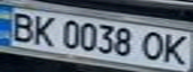0: (57, 17, 81, 51), (78, 20, 100, 53)
3: (97, 22, 118, 56)
8: (115, 25, 139, 58)
B: (3, 10, 39, 43)
K: (157, 33, 193, 66), (27, 14, 60, 47)
O: (136, 29, 169, 63)
